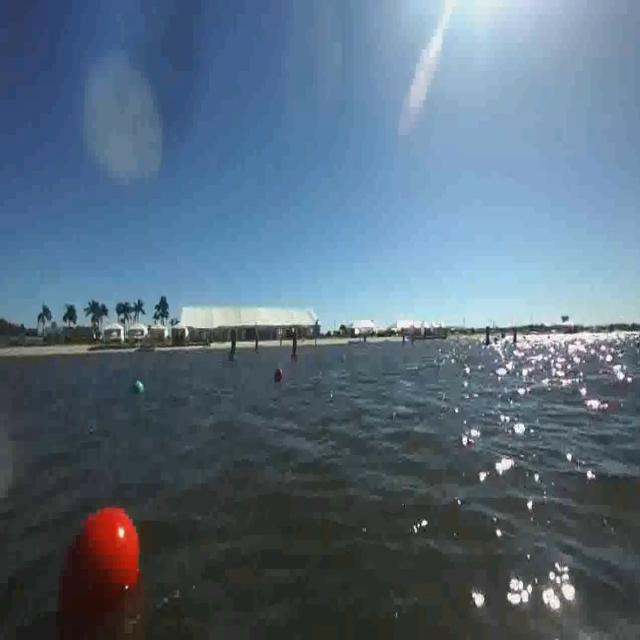green-buoy: (132, 381, 144, 394), (273, 366, 284, 380)
green-column-buoy: (228, 326, 238, 364)
red-buoy: (55, 501, 146, 638)
